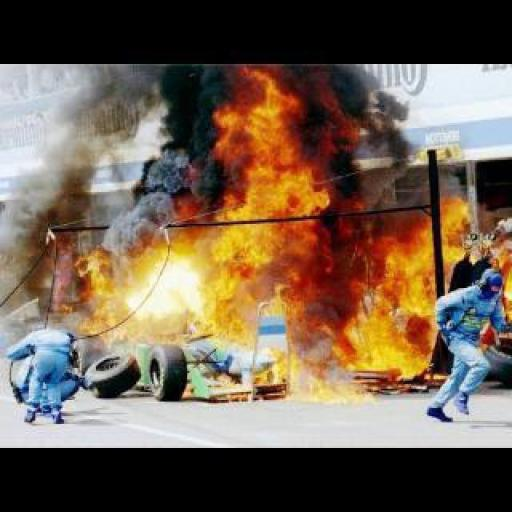smoke: (66, 75, 331, 352), (333, 187, 480, 395), (2, 64, 86, 310), (307, 64, 373, 317), (371, 64, 477, 195), (106, 142, 194, 252)
